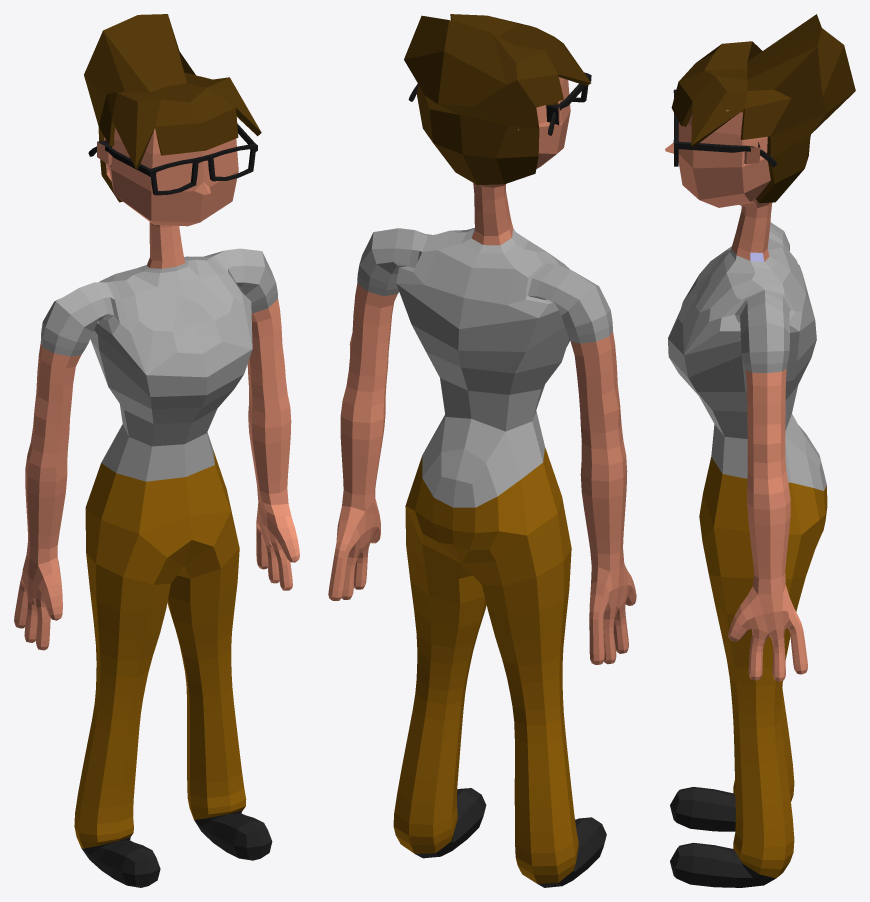
File: npc5.fbx
3 renders of one model, left to right at view 1: azimuth 30°, elevation 25°; view 2: azimuth 150°, elevation 25°; view 3: azimuth 270°, elevation 25°, orthographic. The views are drawn at different scales.
Visible parts, largest first — view 1: npc1; view 2: npc1; view 3: npc1.
Part boxes in pixels (<box>): npc1: <box>14,14,299,887</box>; npc1: <box>328,14,636,887</box>; npc1: <box>665,14,855,887</box>.
Bounding box in the file's own units: 108 × 323 × 67.
